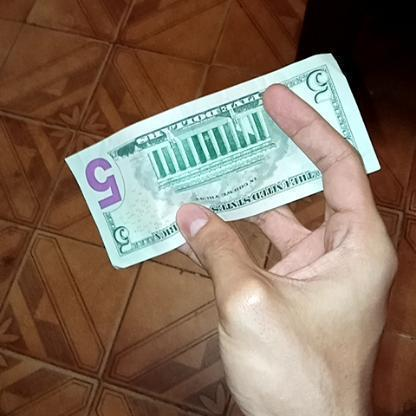five-back: (61, 52, 364, 270)
